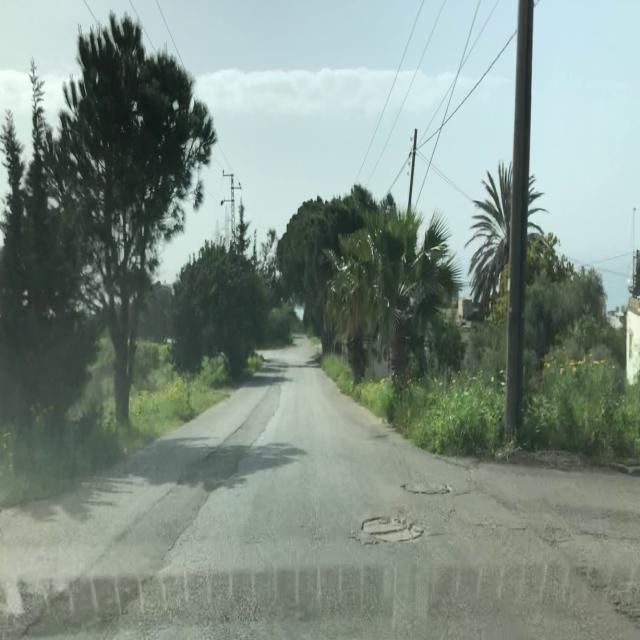Pothole: (360, 513, 426, 546), (400, 479, 453, 496)
